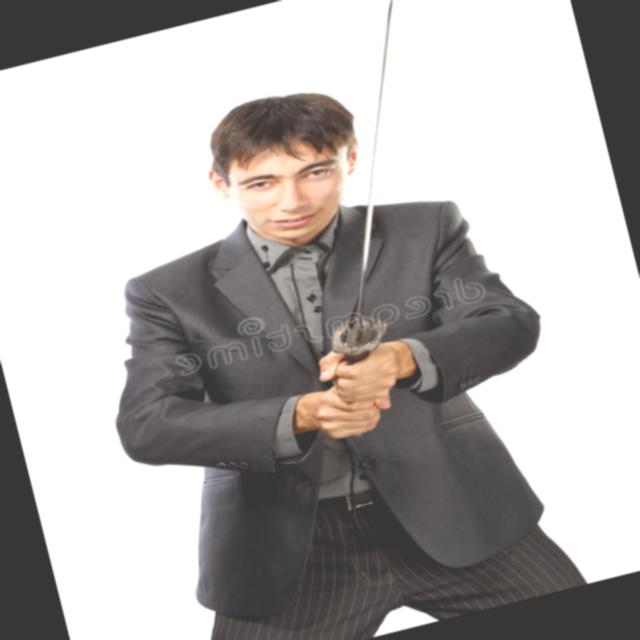long sword: (154, 0, 505, 463)
